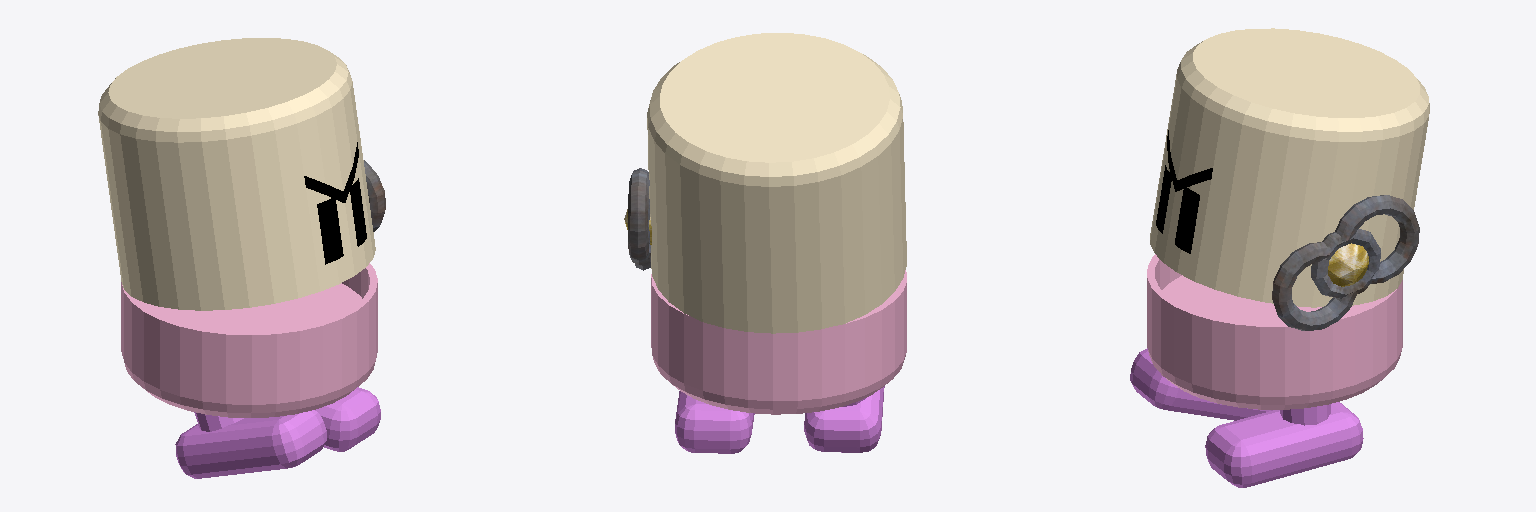
3 renders of one model, left to right at view 1: azimuth 30°, elevation 25°; view 2: azimuth 150°, elevation 25°; view 3: azimuth 270°, elevation 25°, orthographic.
Parts seen in each view (by area): view 1: Head, Jaw, RightLeg, LeftLeg, WindupKey; view 2: Head, Jaw, RightLeg, LeftLeg, WindupKey; view 3: Head, Jaw, WindupKey, LeftLeg, RightLeg.
Boxes of the visible parts, x1,y1,x2,y2 form: Head: [98, 38, 375, 310]; Jaw: [121, 263, 377, 417]; RightLeg: [175, 410, 326, 478]; LeftLeg: [316, 387, 380, 451]; WindupKey: [364, 160, 385, 231]; Head: [647, 33, 906, 333]; Jaw: [651, 270, 906, 414]; RightLeg: [804, 386, 884, 452]; LeftLeg: [675, 391, 754, 453]; WindupKey: [624, 168, 651, 270]; Head: [1150, 28, 1429, 307]; Jaw: [1147, 254, 1402, 409]; WindupKey: [1272, 195, 1419, 330]; LeftLeg: [1205, 402, 1363, 487]; RightLeg: [1130, 348, 1272, 420].
Size of the model in its own units: 117 by 163 by 117.
Materials: 6 (2 with a texture image).